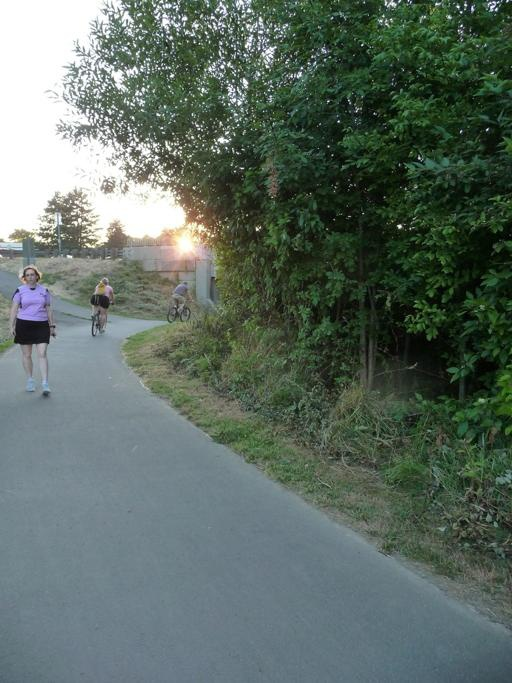non-vehicle: (91, 302, 113, 335), (166, 298, 193, 322)
